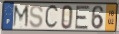0: (60, 5, 74, 30)
6: (90, 5, 105, 31)
C: (44, 3, 60, 30)
E: (74, 5, 91, 30)
M: (12, 4, 31, 30)
S: (28, 5, 44, 30)
